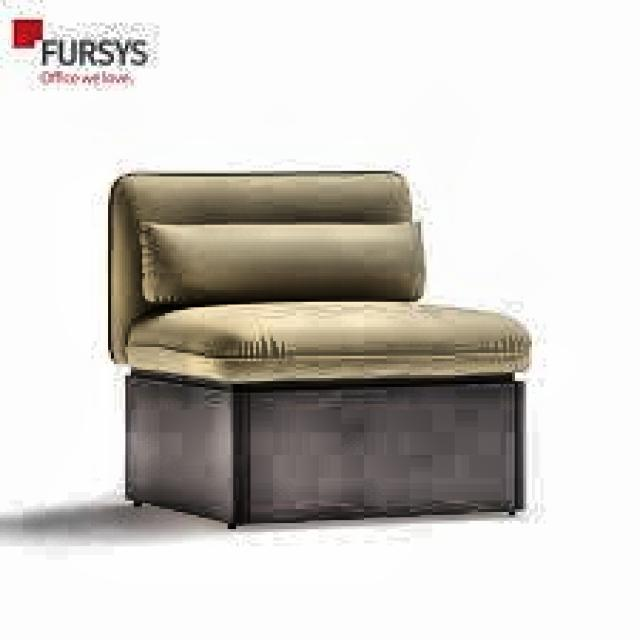sofa: (114, 176, 535, 518)
